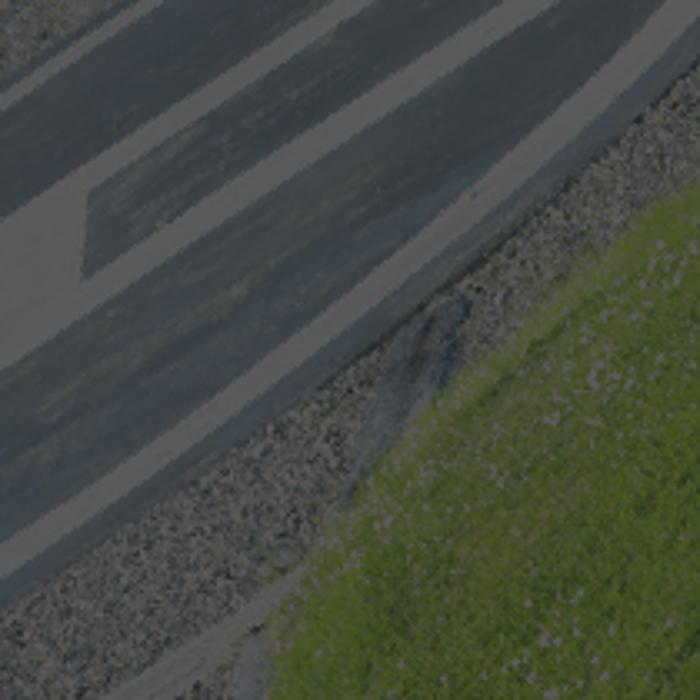Apron: (1, 1, 485, 324)
